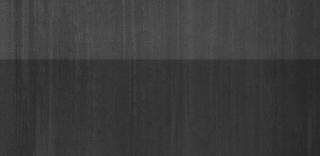welding line: (1, 54, 320, 68)
